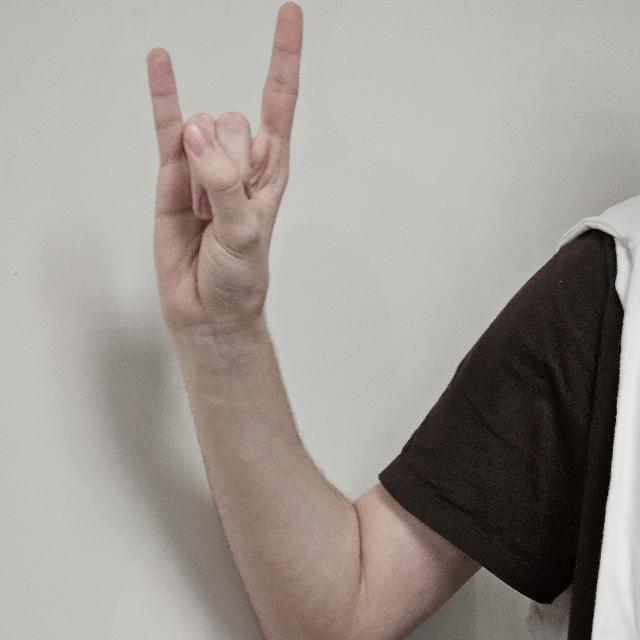L: (146, 4, 304, 340)
